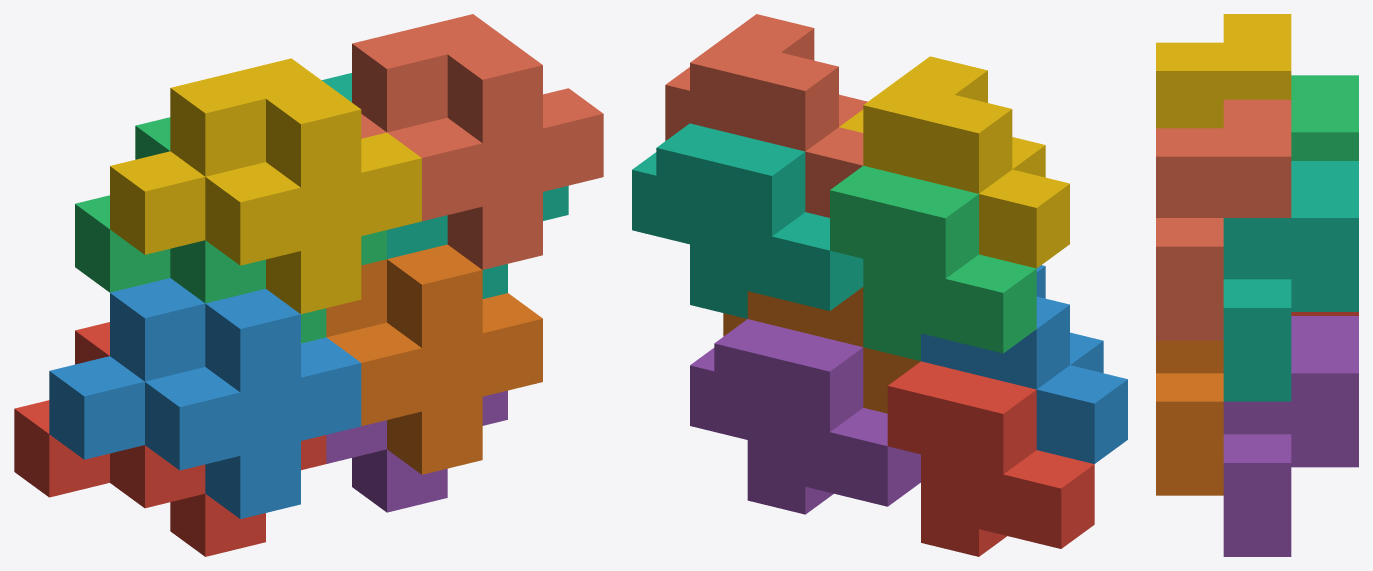
File: tiling.obj
3 renders of one model, left to right at view 1: azimuth 30°, elevation 25°; view 2: azimuth 150°, elevation 25°; view 3: azimuth 270°, elevation 25°, orthographic. The views are drawn at different scales.
Visible parts, largest first — view 1: copy_1_domain_4, copy_1_domain_2, copy_1_domain_8, copy_1_domain_6, copy_1_domain_1, copy_1_domain_3, copy_1_domain_5, copy_1_domain_7; view 2: copy_1_domain_5, copy_1_domain_7, copy_1_domain_1, copy_1_domain_3, copy_1_domain_4, copy_1_domain_8, copy_1_domain_2, copy_1_domain_6; view 3: copy_1_domain_7, copy_1_domain_8, copy_1_domain_5, copy_1_domain_4, copy_1_domain_6, copy_1_domain_3, copy_1_domain_1.
Part boxes in pixels (x1=…): copy_1_domain_4: x1=110, y1=58, x2=421, y2=314; copy_1_domain_2: x1=49, y1=278, x2=361, y2=518; copy_1_domain_8: x1=352, y1=14, x2=603, y2=269; copy_1_domain_6: x1=326, y1=244, x2=542, y2=474; copy_1_domain_1: x1=14, y1=322, x2=326, y2=556; copy_1_domain_3: x1=75, y1=117, x2=386, y2=343; copy_1_domain_5: x1=326, y1=390, x2=507, y2=512; copy_1_domain_7: x1=322, y1=73, x2=568, y2=298; copy_1_domain_5: x1=690, y1=319, x2=920, y2=514; copy_1_domain_7: x1=632, y1=123, x2=863, y2=318; copy_1_domain_1: x1=887, y1=361, x2=1094, y2=556; copy_1_domain_3: x1=830, y1=165, x2=1036, y2=361; copy_1_domain_4: x1=839, y1=56, x2=1069, y2=268; copy_1_domain_8: x1=665, y1=14, x2=867, y2=217; copy_1_domain_2: x1=921, y1=265, x2=1127, y2=463; copy_1_domain_6: x1=723, y1=287, x2=920, y2=413; copy_1_domain_7: x1=1223, y1=161, x2=1358, y2=401; copy_1_domain_8: x1=1156, y1=99, x2=1291, y2=340; copy_1_domain_5: x1=1223, y1=316, x2=1358, y2=556; copy_1_domain_4: x1=1156, y1=14, x2=1291, y2=128; copy_1_domain_6: x1=1156, y1=340, x2=1223, y2=495; copy_1_domain_3: x1=1291, y1=75, x2=1358, y2=160; copy_1_domain_1: x1=1291, y1=312, x2=1358, y2=315.
Size of the model in its own units: 8 by 7 by 3.
